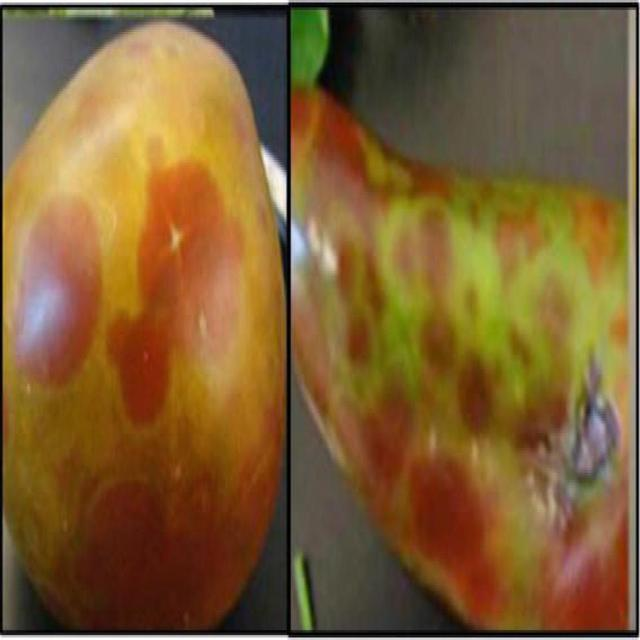Spotted wilt Virus Fruit: (96, 218, 306, 405)
